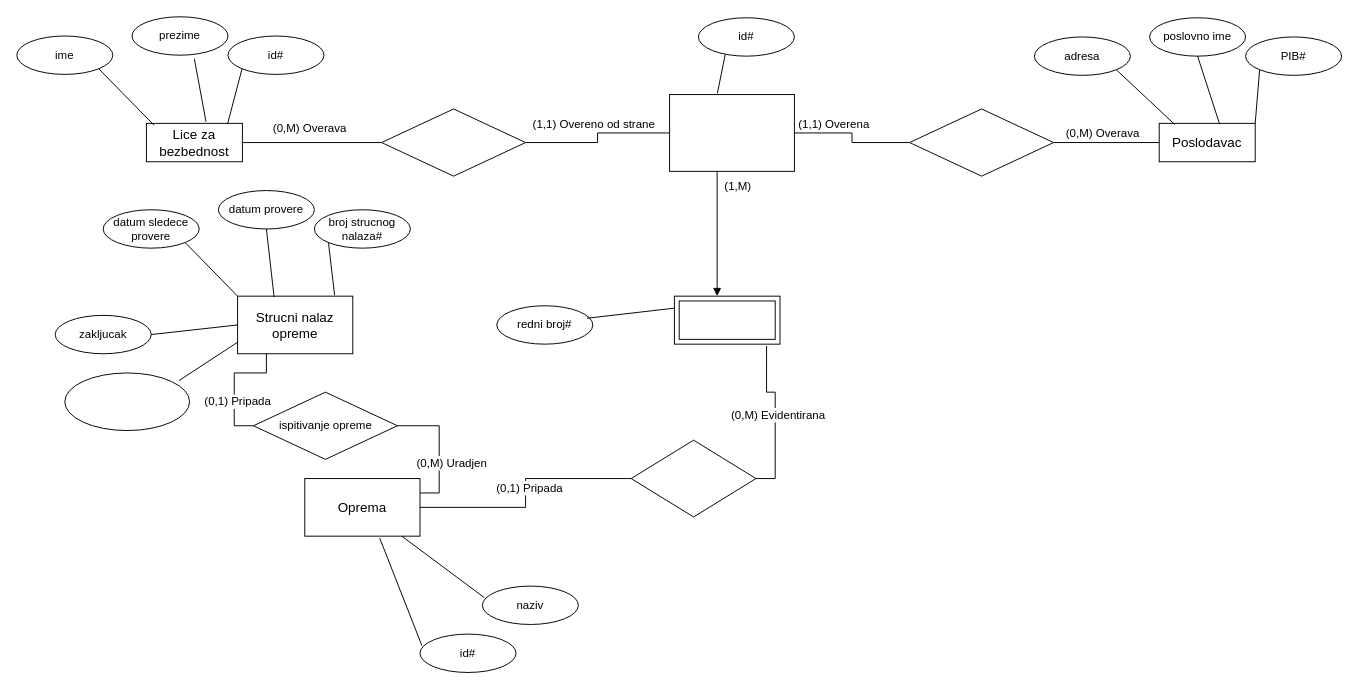
Some shapes in this 1358 by 689 pixel diagram are drawn without their labels. The shapes that lost their labels are listed below. From the top down, each one's centre as x and y in pixels, then its label:
At point 453,142: "Vodjenje evidencije".
At point 731,132: "Evidencija o izvrsenim ispitivanjima opreme".
At point 981,142: "overavanje evidencije".
At point 726,319: "Stavka evidencije".
At point 127,401: "napomene".
At point 693,478: "evidentiranje".
